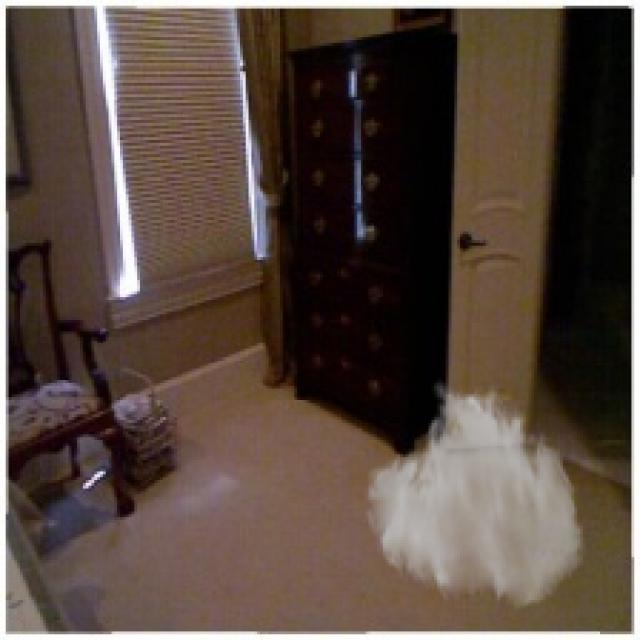smoke: (363, 377, 586, 612)
